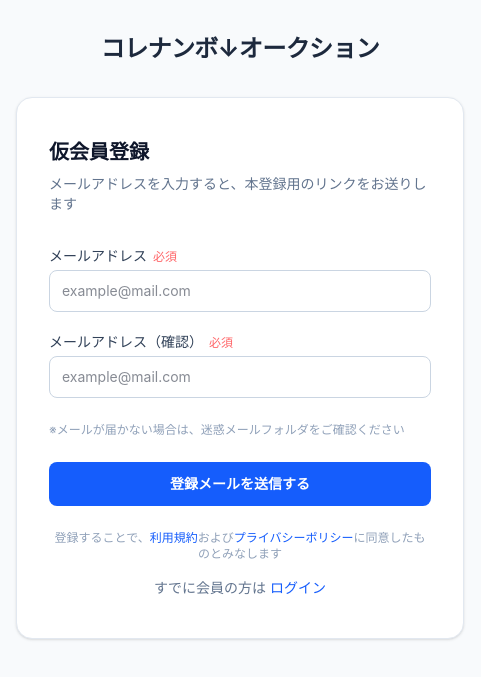
Scenario: UserRegistrationPage › クライアントサイドバリデーション › 無効なメールアドレスを入力するとエラーが表示される
Type "invalid-email" into the field with placeholder "example@mail.com" at {"x": 240, "y": 291}, box [49,270,431,312]
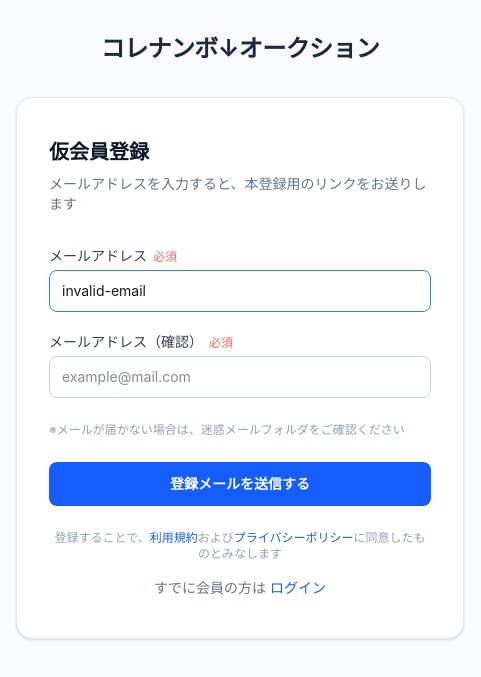
Click the button "登録メールを送信する" at {"x": 240, "y": 484}, box [49,462,431,506]
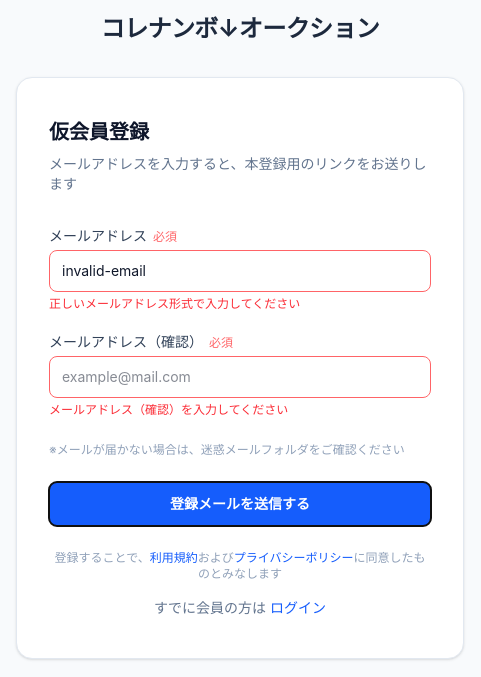
Now the text "正しいメールアドレス形式で入力してください" is shown, box [49,296,300,311]
